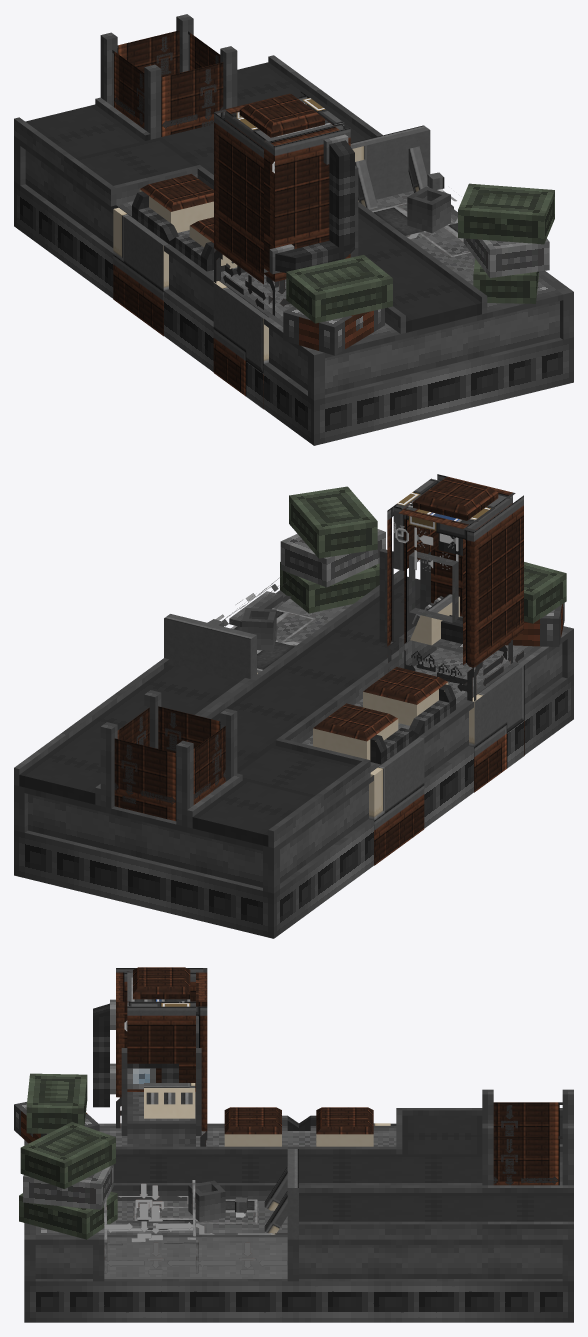
Rendered from ammunition_assembler_base.obj.
3 renders of one model, top to bottom at view 1: azimuth 30°, elevation 25°; view 2: azimuth 150°, elevation 25°; view 3: azimuth 270°, elevation 25°, orthographic. The views are drawn at different scales.
Parts seen in each view (by area): view 1: main; view 2: main; view 3: main.
Boxes of the visible parts, x1,y1,x2,y2 form: main: (14,14,573,445); main: (14,474,573,938); main: (14,967,573,1322).
Bounding box in the file's own units: 3.26 × 3 × 6.11.
